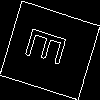E: (24, 25, 76, 71)
